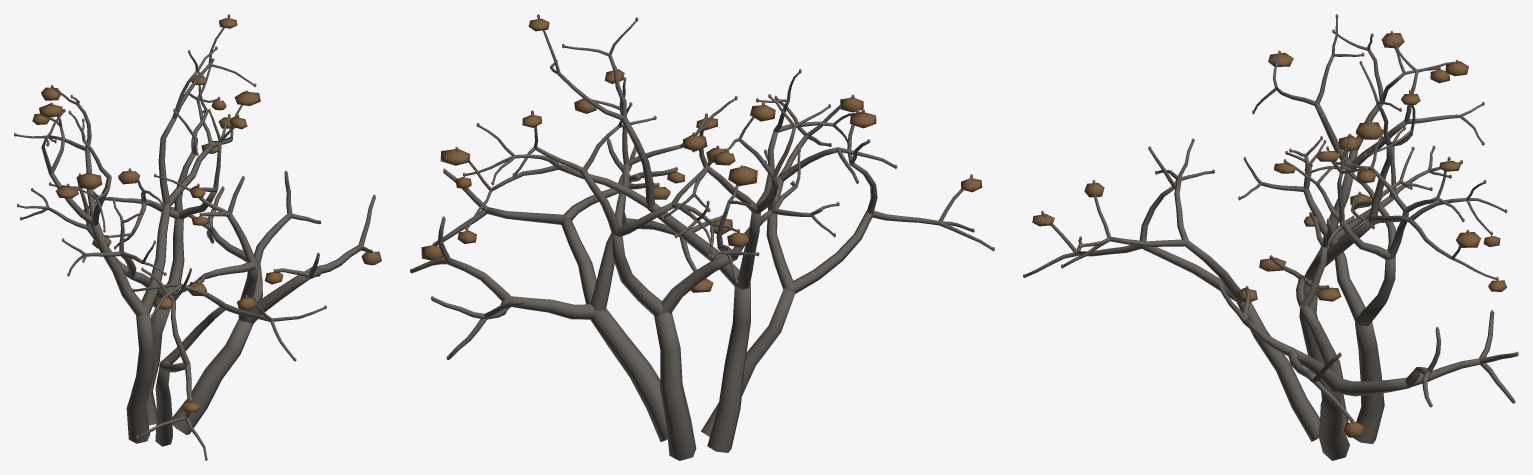
File: scrub_oak_3.glb
3 renders of one model, left to right at view 1: azimuth 30°, elevation 25°; view 2: azimuth 150°, elevation 25°; view 3: azimuth 270°, elevation 25°, orthographic. The views are drawn at different scales.
Visible parts, largest first — view 1: ScrubOak_LimbWood_2, ScrubOak_LimbWood_0, ScrubOak_LimbWood_1, ScrubOak_LimbWood_3; view 2: ScrubOak_LimbWood_2, ScrubOak_LimbWood_1, ScrubOak_LimbWood_0, ScrubOak_LimbWood_3; view 3: ScrubOak_LimbWood_1, ScrubOak_LimbWood_0, ScrubOak_LimbWood_2, ScrubOak_LimbWood_3.
Boxes of the visible parts, x1,y1,x2,y2 form: ScrubOak_LimbWood_2: (16,17,253,443); ScrubOak_LimbWood_0: (166,172,375,434); ScrubOak_LimbWood_1: (19,74,237,425); ScrubOak_LimbWood_3: (133,269,325,457); ScrubOak_LimbWood_2: (457,17,862,452); ScrubOak_LimbWood_1: (515,81,837,460); ScrubOak_LimbWood_0: (411,140,721,441); ScrubOak_LimbWood_3: (701,96,992,436); ScrubOak_LimbWood_1: (1240,128,1462,443); ScrubOak_LimbWood_0: (1218,213,1517,460); ScrubOak_LimbWood_2: (1253,17,1505,428); ScrubOak_LimbWood_3: (1024,141,1319,441).
Size of what is drawn, in the model's own units: 3.48 by 3.39 by 3.7.
